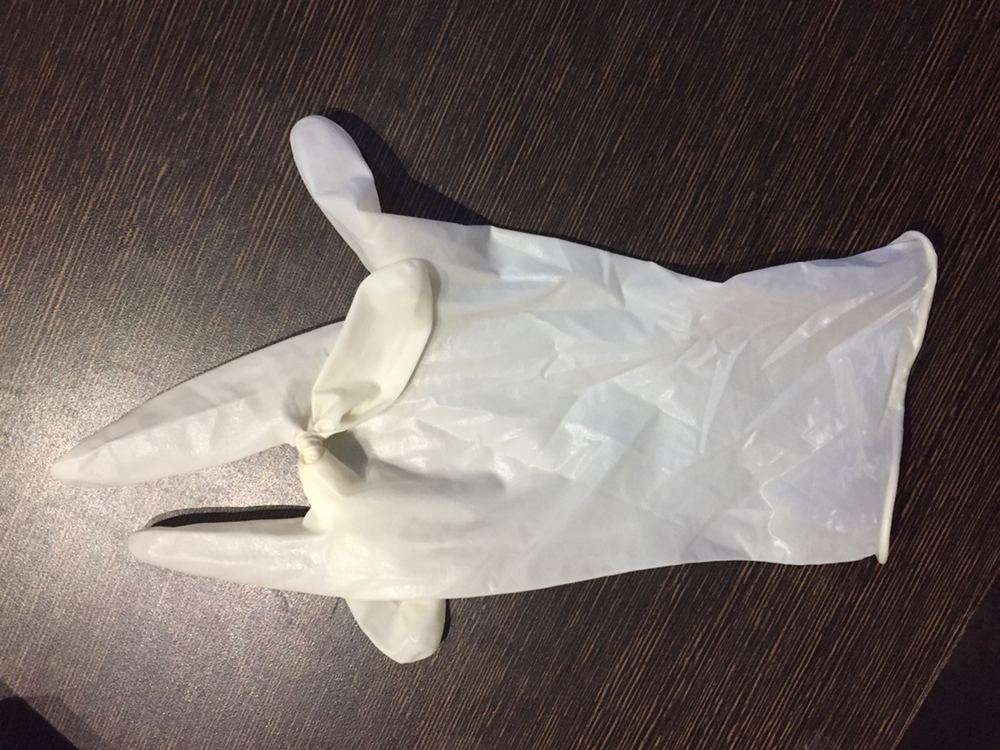defected: (24, 115, 950, 646)
